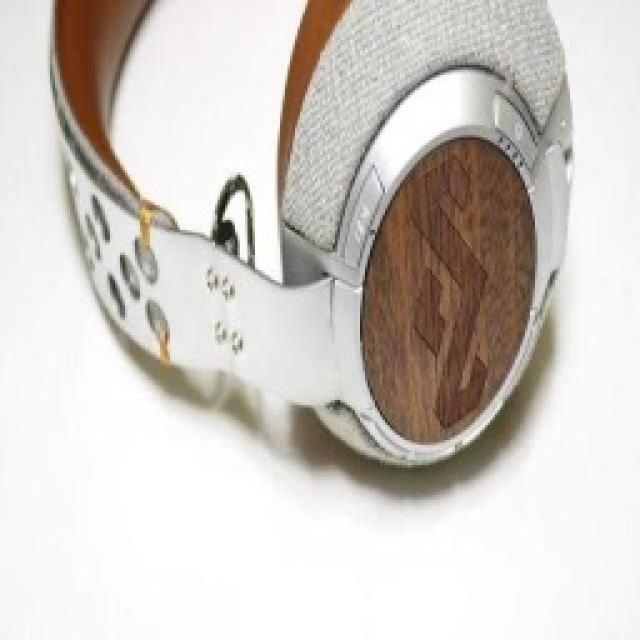headphones: (45, 0, 575, 470)
